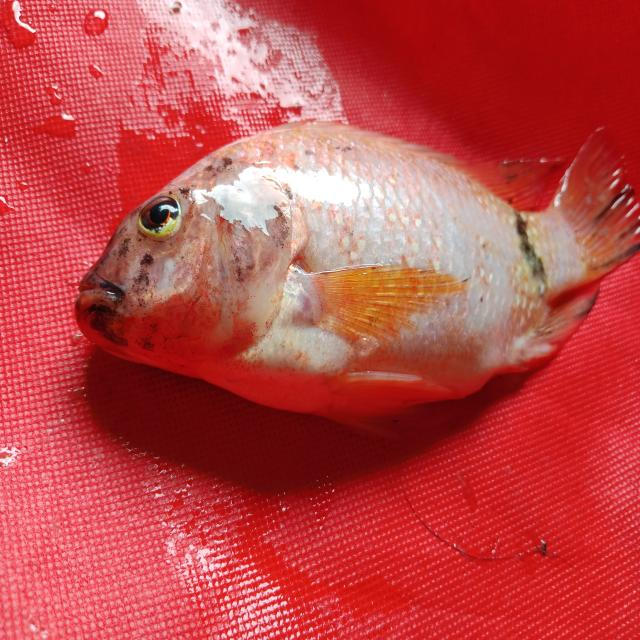ikan: (61, 79, 624, 448)
